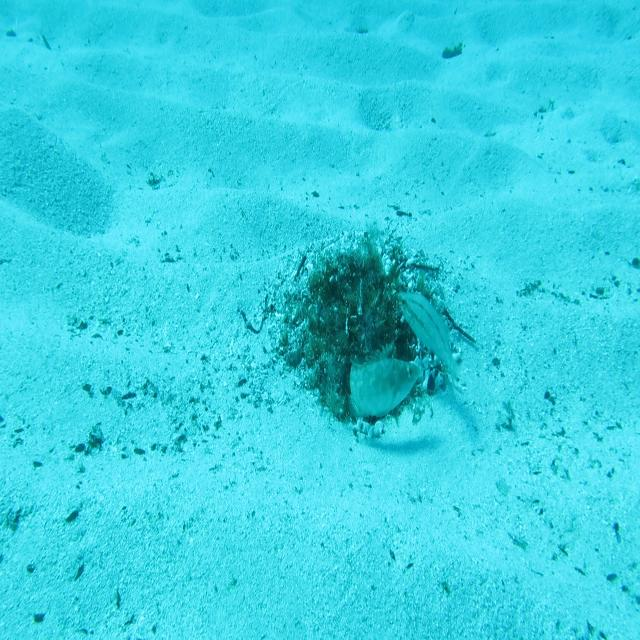DAN_CIRC: (346, 342, 422, 422)
core_nest: (339, 270, 384, 319)
female: (396, 287, 462, 392)
nest: (255, 218, 465, 454)
vegetation: (441, 44, 465, 60)
